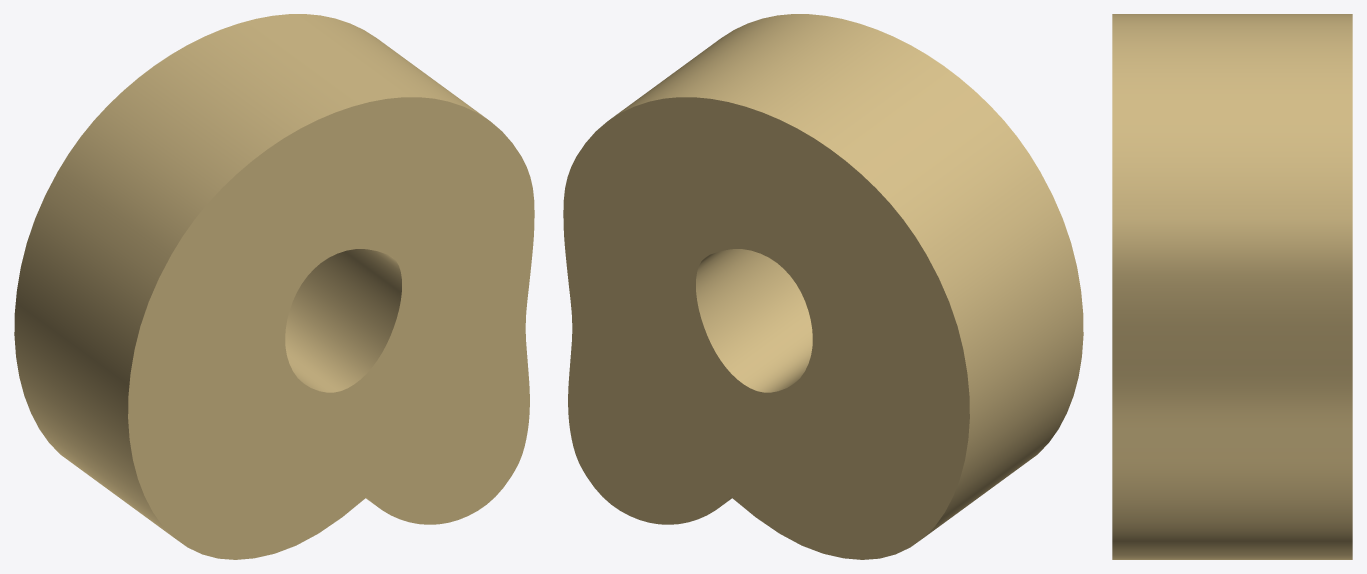
Rendered from small-a.fbx.
The picture shows the model from 3 angles, left to right: view 1: azimuth 30°, elevation 25°; view 2: azimuth 150°, elevation 25°; view 3: azimuth 270°, elevation 25°; orthographic projection. The views are drawn at different scales.
Visible parts, largest first — view 1: small_a; view 2: small_a; view 3: small_a.
Part boxes in pixels (x1=…): small_a: x1=14, y1=14, x2=534, y2=559; small_a: x1=563, y1=14, x2=1083, y2=559; small_a: x1=1112, y1=14, x2=1352, y2=559.
Size of the model in its own units: 5.16 by 5.34 by 2.5.
